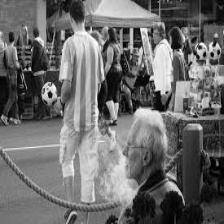smoke: (102, 168, 132, 201)
